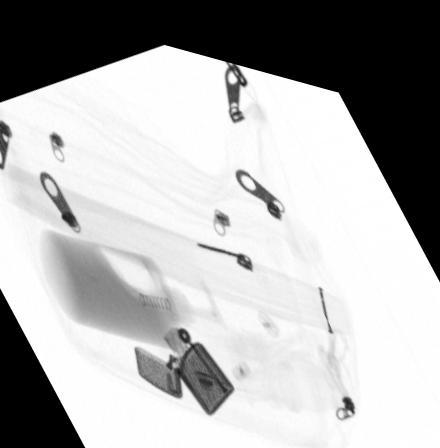Lighter: (133, 313, 234, 405)
